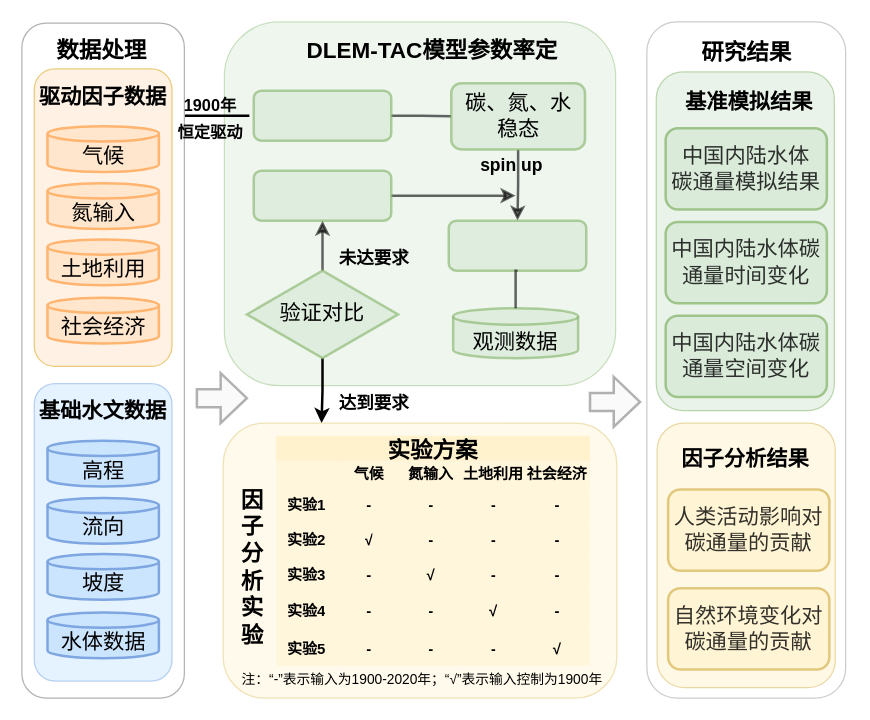
The diagram is 870 pixels wide and 720 high, and some of its shapes have lost their labels. Each missing label, with the centre of its shape:
DLEM模型: point 322,115
调整参数: point 322,195
过渡态模拟: point 517,245
